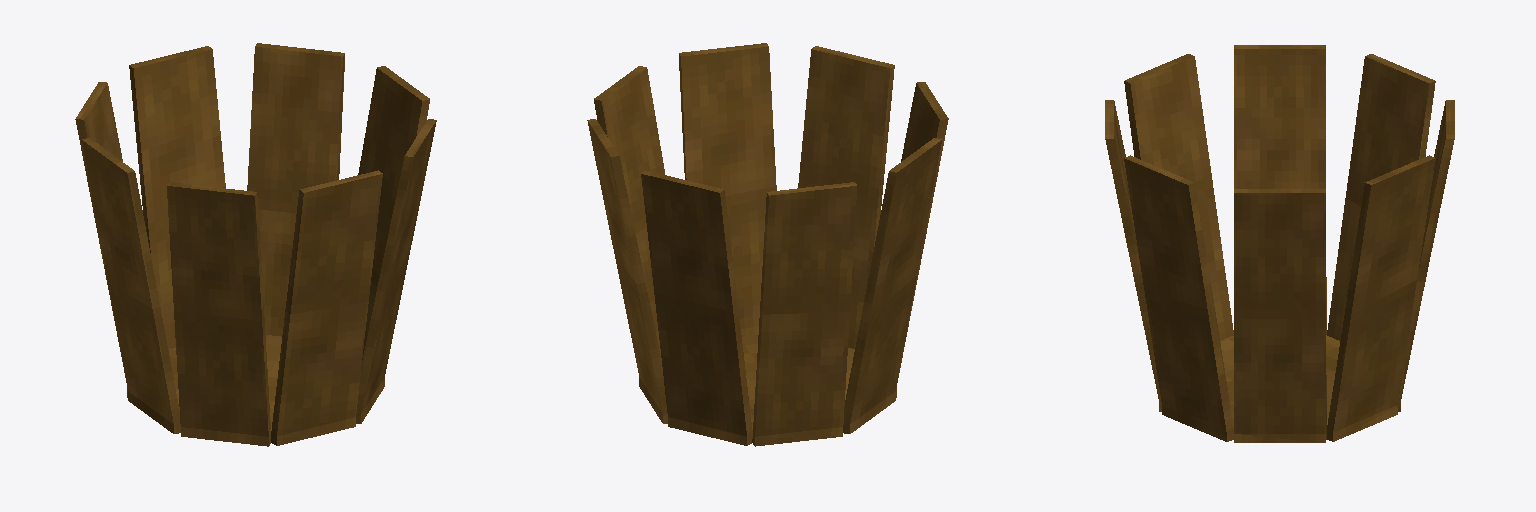
3 renders of one model, left to right at view 1: azimuth 30°, elevation 25°; view 2: azimuth 150°, elevation 25°; view 3: azimuth 270°, elevation 25°, orthographic.
Parts seen in each view (by area): view 1: Cylinder; view 2: Cylinder; view 3: Cylinder.
Part boxes in pixels (x1,y1,x2,y2): Cylinder: (75,43,436,446); Cylinder: (587,43,948,446); Cylinder: (1105,45,1454,442).
Size of the model in its own units: 2.6 by 2.24 by 2.59.
Materials: 1 (1 with a texture image).